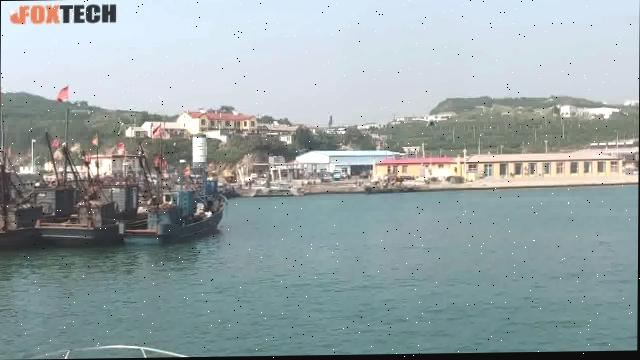drone: (406, 105, 457, 131)
